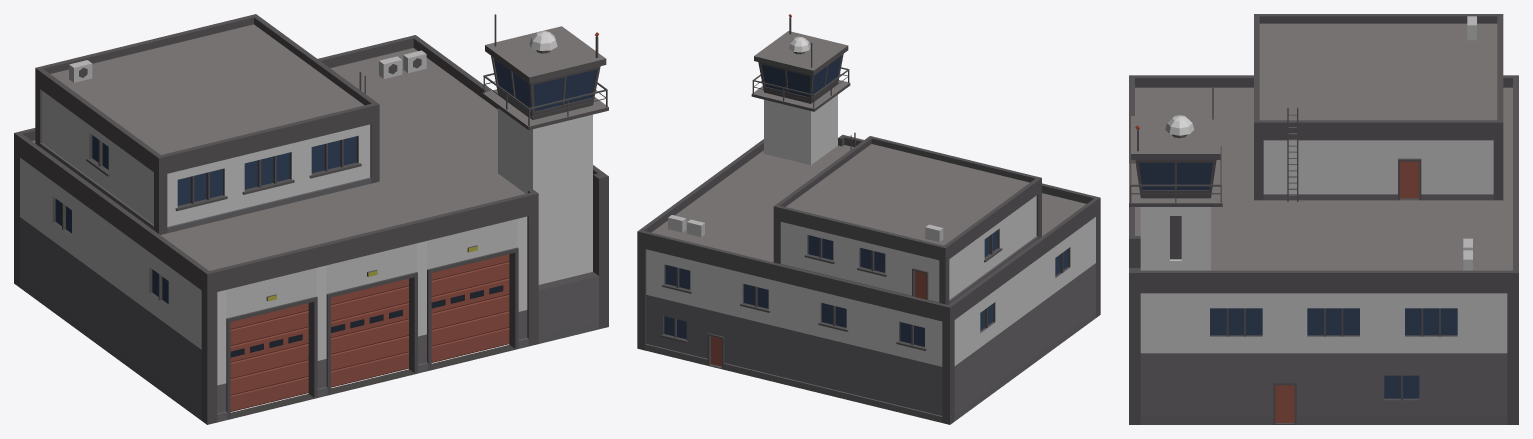
Rendered from airport-fire-station-92c6b7.glb.
The picture shows the model from 3 angles, left to right: view 1: azimuth 30°, elevation 25°; view 2: azimuth 150°, elevation 25°; view 3: azimuth 270°, elevation 25°; orthographic projection. The views are drawn at different scales.
Parts seen in each view (by area): view 1: fire-station-body; view 2: fire-station-body; view 3: fire-station-body.
Boxes of the visible parts, x1,y1,x2,y2 form: fire-station-body: (14, 14, 608, 424); fire-station-body: (637, 14, 1100, 424); fire-station-body: (1129, 14, 1518, 424).
Size of the model in its own units: 24 by 17.1 by 20.
